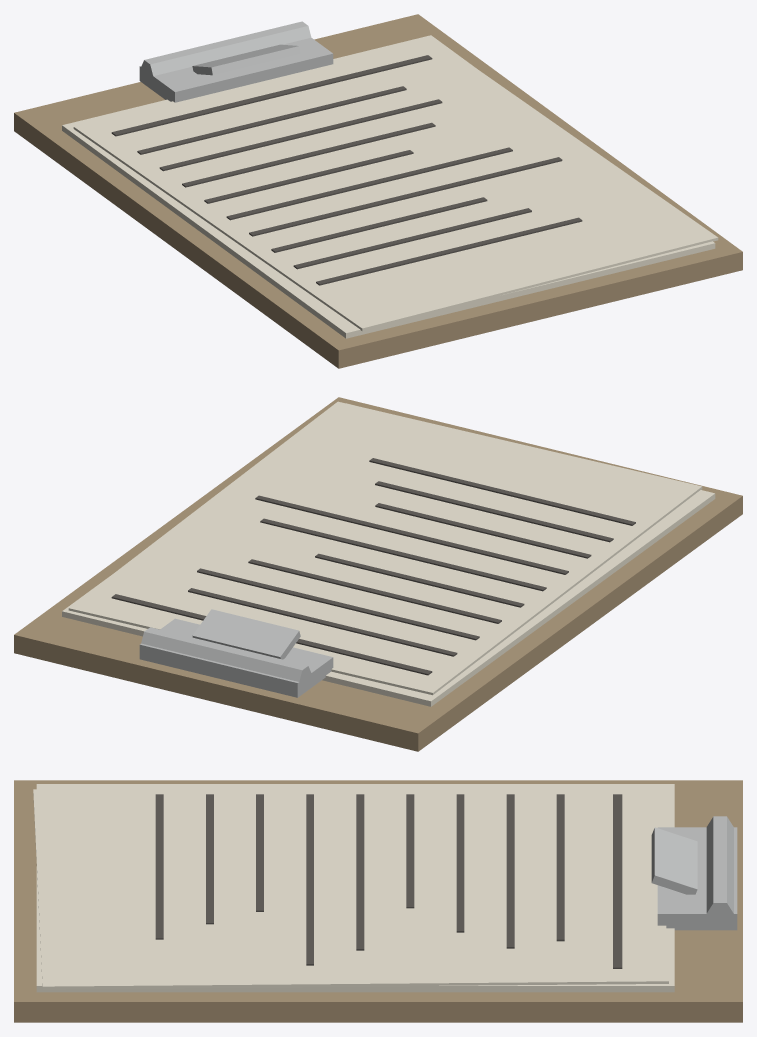
Rendered from note_sheet.glb.
3 views of the same model, one above another, from view 1: azimuth 30°, elevation 25°; view 2: azimuth 150°, elevation 25°; view 3: azimuth 270°, elevation 25° (orthographic). The views are drawn at different scales.
Visible parts, largest first — view 1: Sheet; view 2: Sheet; view 3: Sheet.
Part boxes in pixels (x1,y1,x2,y2): Sheet: (14, 14, 742, 368); Sheet: (14, 397, 742, 751); Sheet: (14, 780, 742, 1022).
Bounding box in the file's own units: 0.23 × 0.0293 × 0.32.
